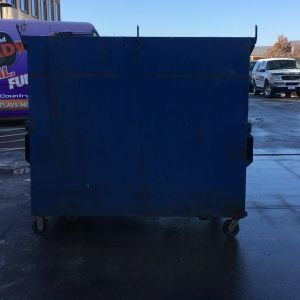Dumpster: (14, 22, 266, 243)
